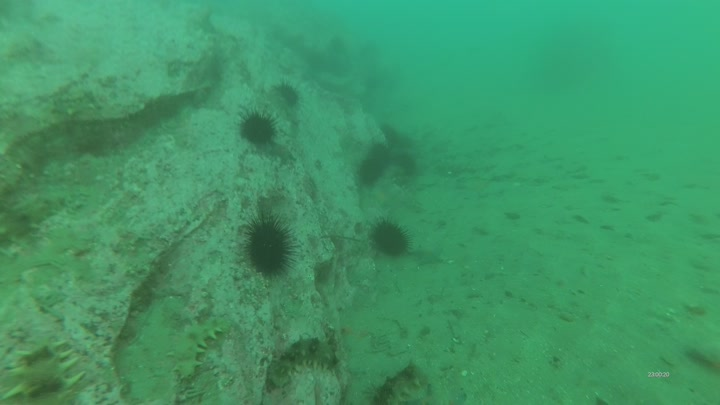echinus: (242, 207, 302, 281), (369, 214, 419, 259), (236, 103, 281, 148), (270, 76, 305, 109), (358, 157, 384, 188), (390, 153, 420, 178), (370, 141, 393, 172), (379, 123, 401, 148)
holothurian: (1, 336, 89, 405), (165, 316, 226, 383), (268, 334, 339, 377), (372, 361, 425, 405)
